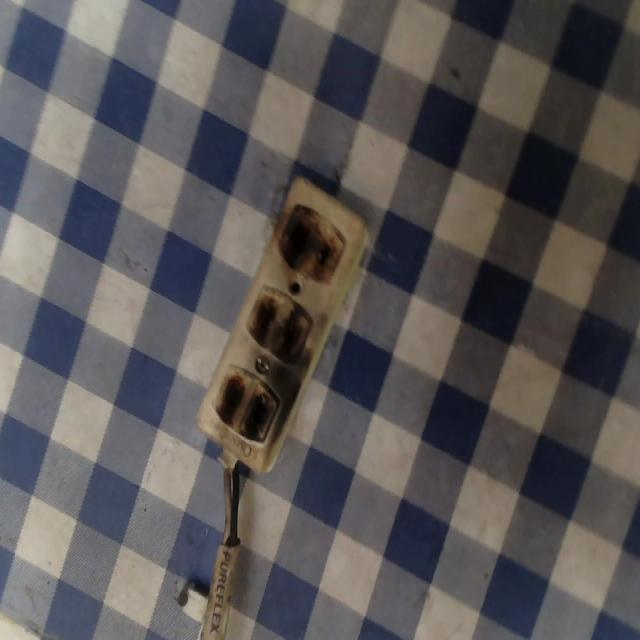-: (242, 281, 313, 368), (278, 201, 349, 284), (211, 364, 280, 448)
